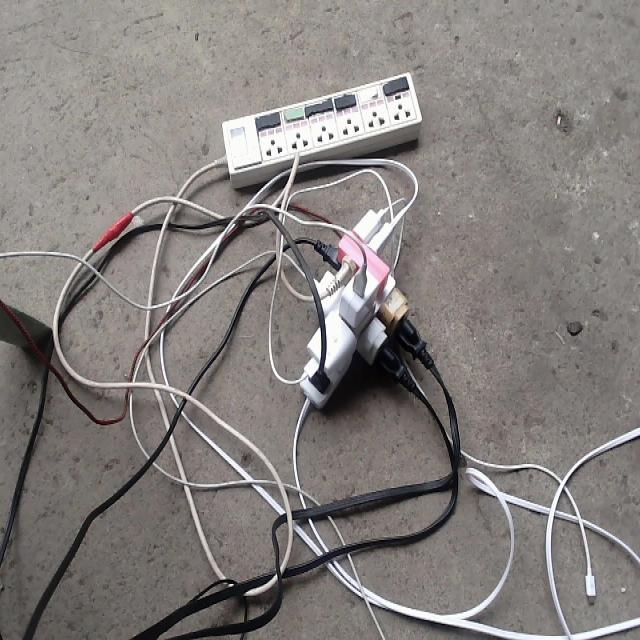-: (290, 206, 433, 406)
